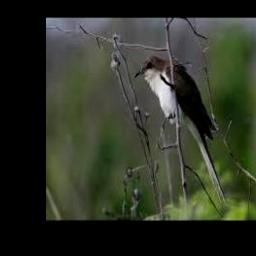Cuckoo: (134, 54, 227, 206)
